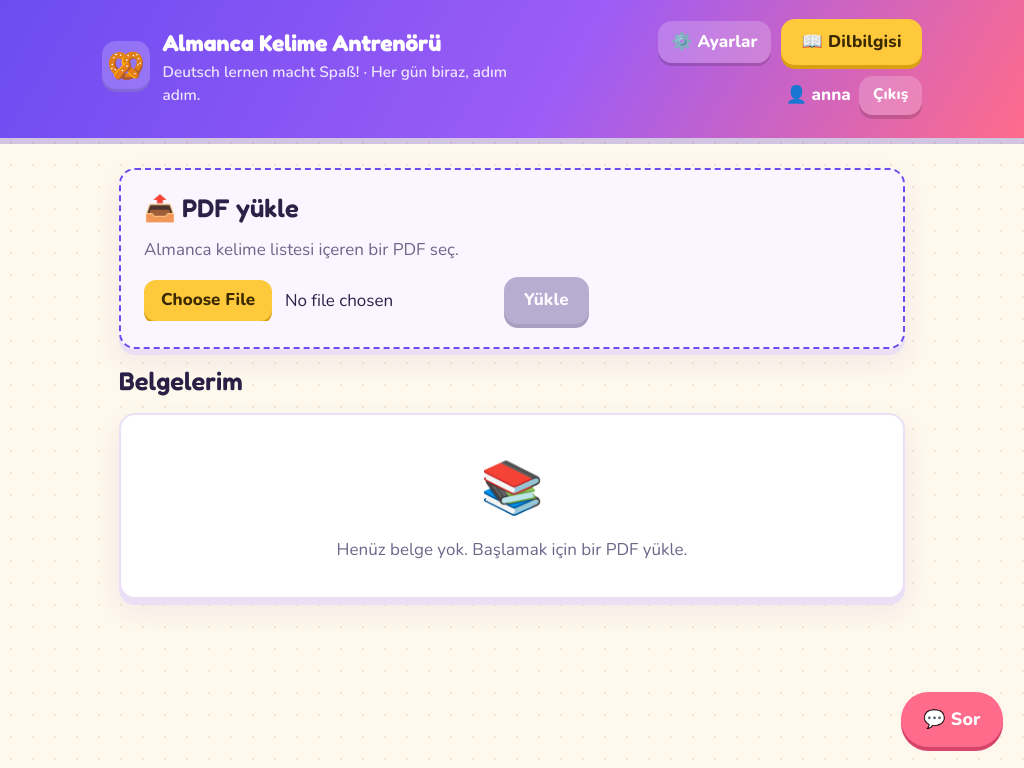
Test: ChatPanel › answers a question and formats the reply
This screenshot has width=1024, height=768.
Click the button "💬 Sor".
click(952, 719)  # box [901,692,1003,747]
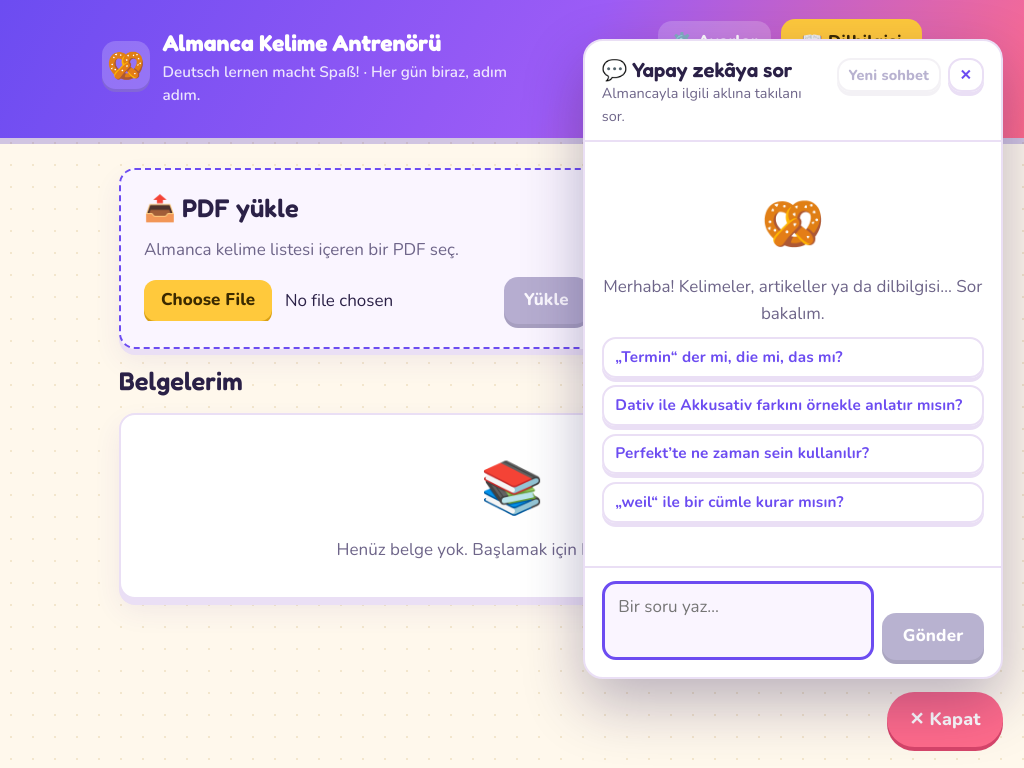
Type "Termin der mi?" into the text box named "Sorun".
click(738, 620); type("Termin der mi?")  # box [602,581,874,660]
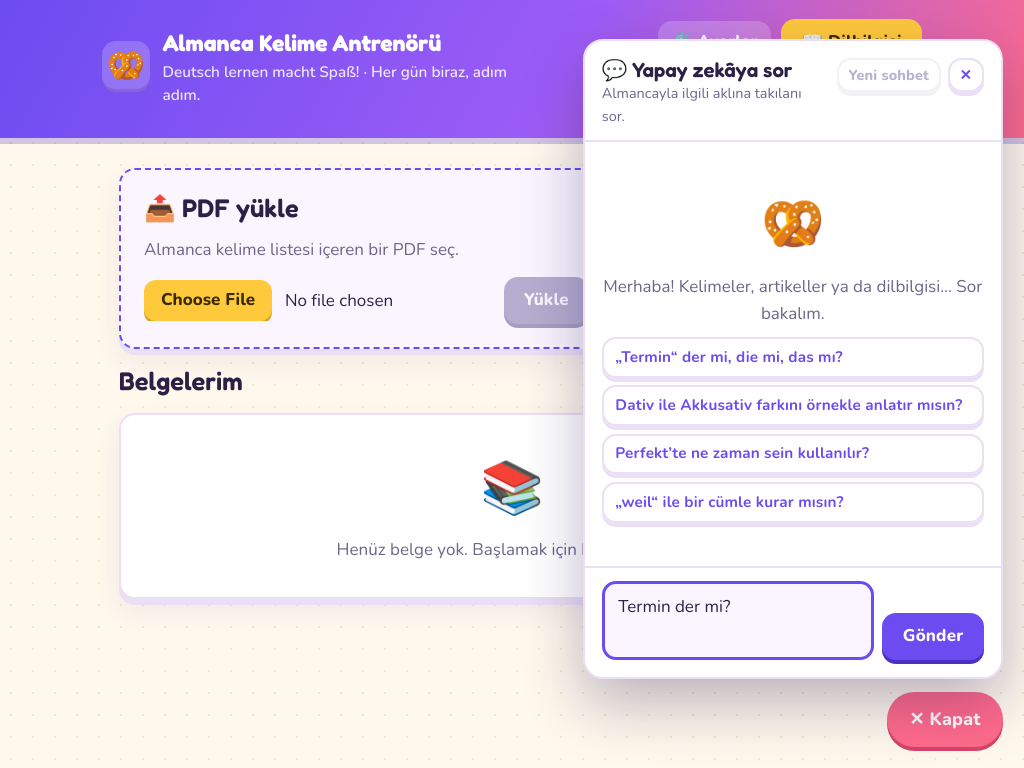
Click the button "Gönder".
click(933, 636)  # box [882,613,984,660]
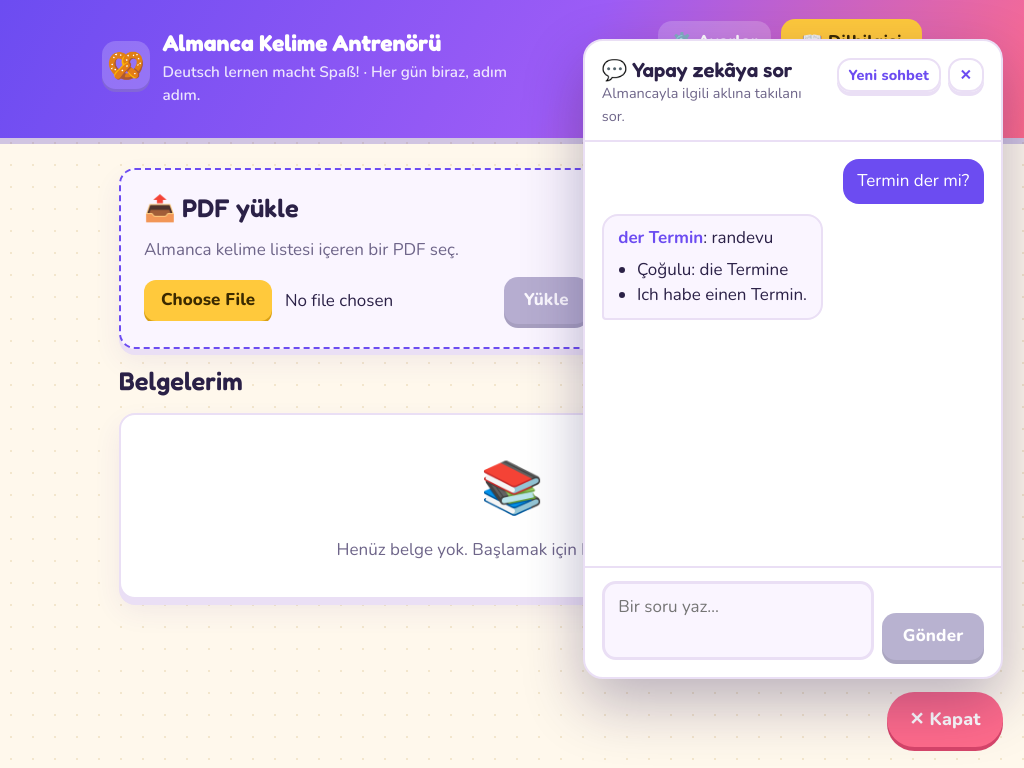
Result: the text "der Termin" is shown at [618,226,703,249]
Result: the number of list items is 2 at [637,258,807,283]; [637,283,807,308]
Result: the text "Termin der mi?" is shown at [857,169,969,194]
